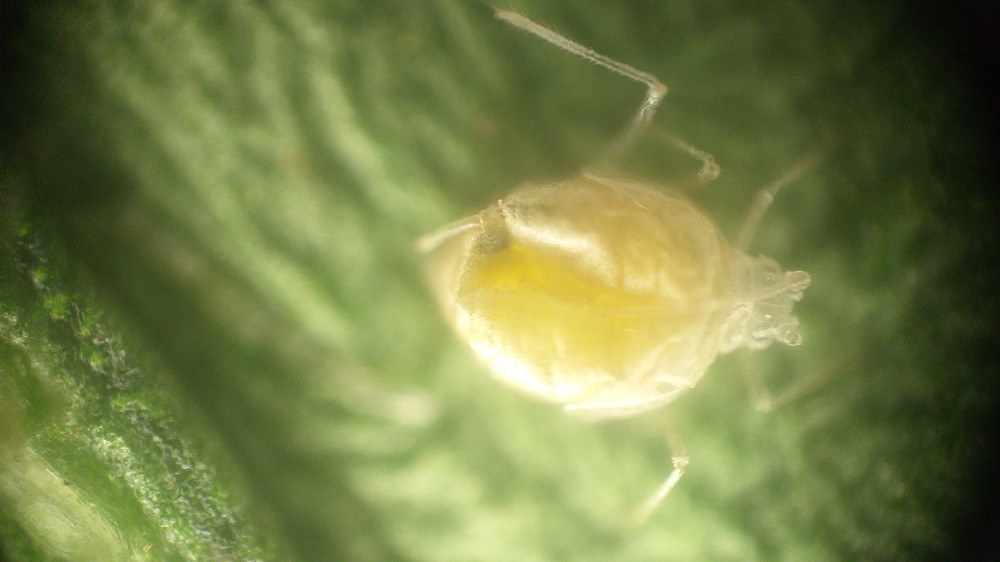Pulgon: (397, 19, 861, 515)
